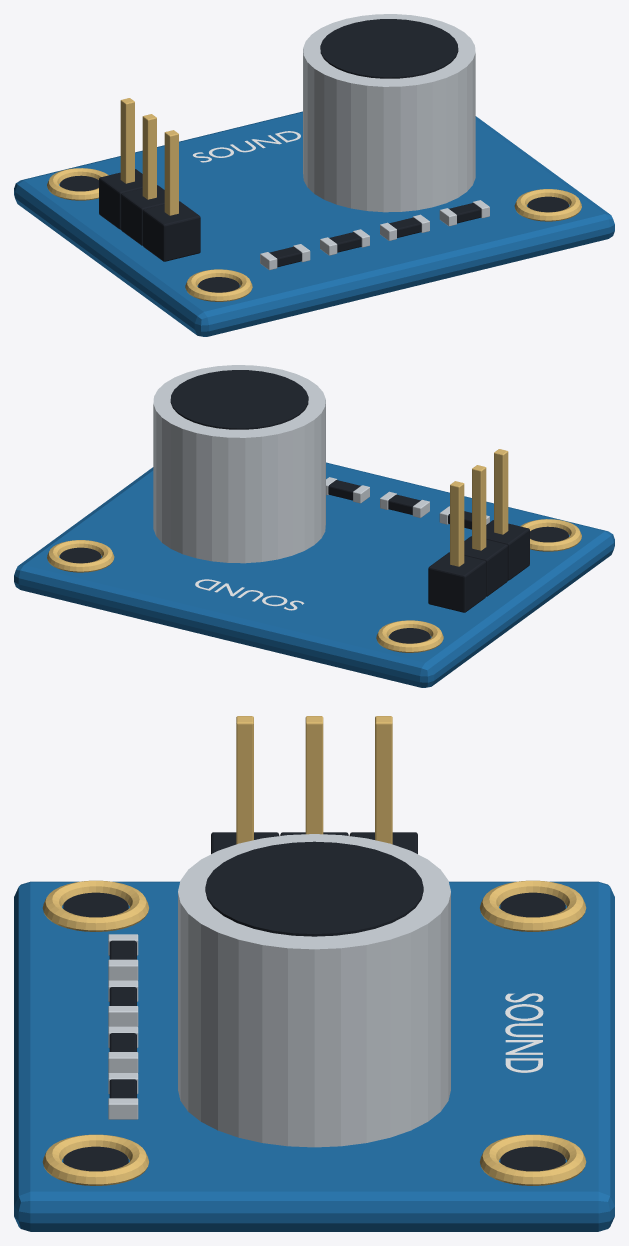
Rendered from sound-sensor.glb.
The picture shows the model from 3 angles, top to bottom: view 1: azimuth 30°, elevation 25°; view 2: azimuth 150°, elevation 25°; view 3: azimuth 270°, elevation 25°; orthographic projection. The views are drawn at different scales.
Visible parts, largest first — view 1: Static body • blue, Static body • silver, Static body • black, Static body • gold, Static body • white; view 2: Static body • blue, Static body • silver, Static body • black, Static body • gold, Static body • white; view 3: Static body • blue, Static body • silver, Static body • black, Static body • gold, Static body • white.
Boxes of the visible parts, left/top/right/bottom form: Static body • blue: left=14, top=111, right=614, bottom=336; Static body • silver: left=260, top=14, right=489, bottom=270; Static body • black: left=60, top=19, right=568, bottom=292; Static body • gold: left=47, top=98, right=581, bottom=301; Static body • white: left=192, top=131, right=300, bottom=162; Static body • blue: left=14, top=462, right=614, bottom=687; Static body • silver: left=153, top=365, right=489, bottom=563; Static body • black: left=60, top=370, right=568, bottom=643; Static body • gold: left=47, top=449, right=581, bottom=652; Static body • white: left=195, top=579, right=304, bottom=610; Static body • blue: left=14, top=881, right=614, bottom=1231; Static body • silver: left=108, top=834, right=450, bottom=1147; Static body • black: left=63, top=832, right=565, bottom=1171; Static body • gold: left=42, top=716, right=586, bottom=1185; Static body • white: left=505, top=993, right=543, bottom=1072.
Size of the model in its own units: 28 by 9.95 by 22.
